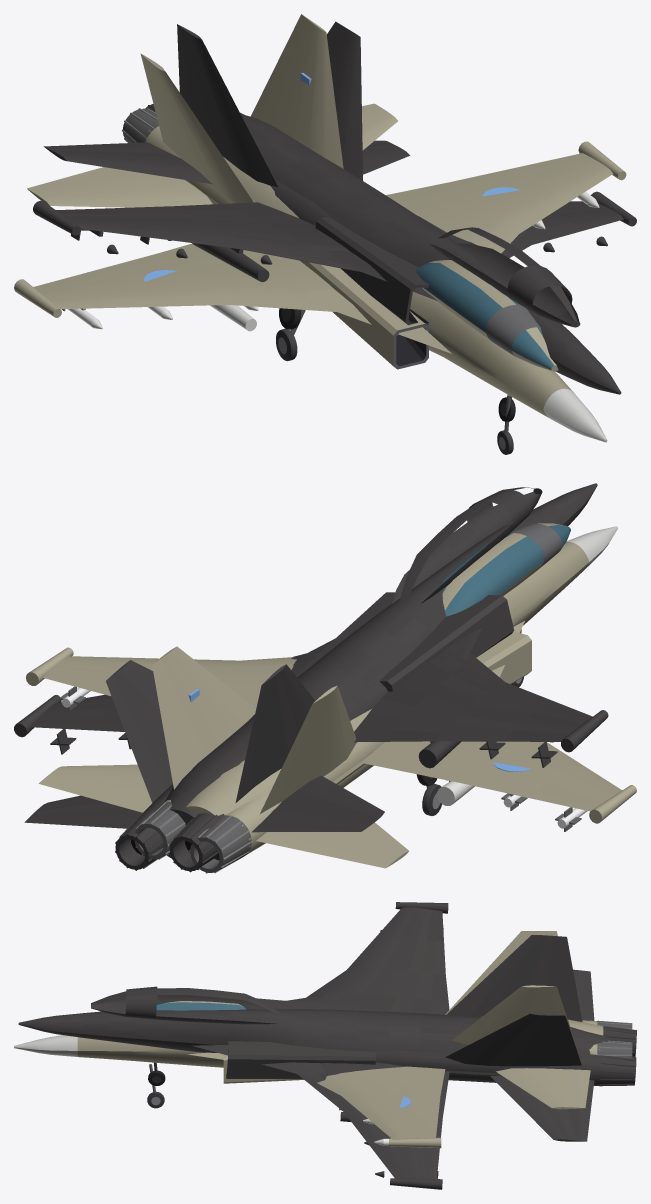
Rendered from ewJet__ea_18g_growler.glb.
3 renders of one model, top to bottom at view 1: azimuth 30°, elevation 25°; view 2: azimuth 150°, elevation 25°; view 3: azimuth 270°, elevation 25°, orthographic. The views are drawn at different scales.
Visible parts, largest first — view 1: Fuselage_Mesh, Wreck; view 2: Wreck, Fuselage_Mesh; view 3: Wreck, Fuselage_Mesh.
Boxes of the visible parts, x1,y1,x2,y2 form: Fuselage_Mesh: (14, 14, 626, 454); Wreck: (33, 21, 636, 421); Wreck: (14, 483, 608, 872); Fuselage_Mesh: (26, 523, 636, 873); Wreck: (18, 902, 636, 1189); Fuselage_Mesh: (14, 931, 632, 1149).
Size of what is drawn, in the model's own units: 14.21 by 5.25 by 18.48.
